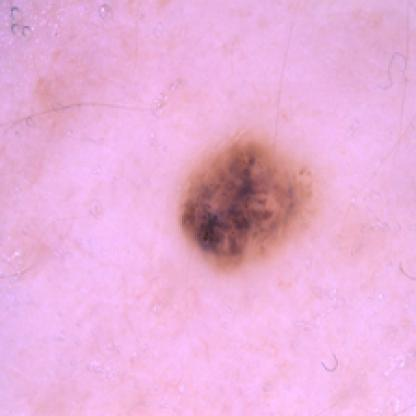benign: (176, 137, 327, 277)
